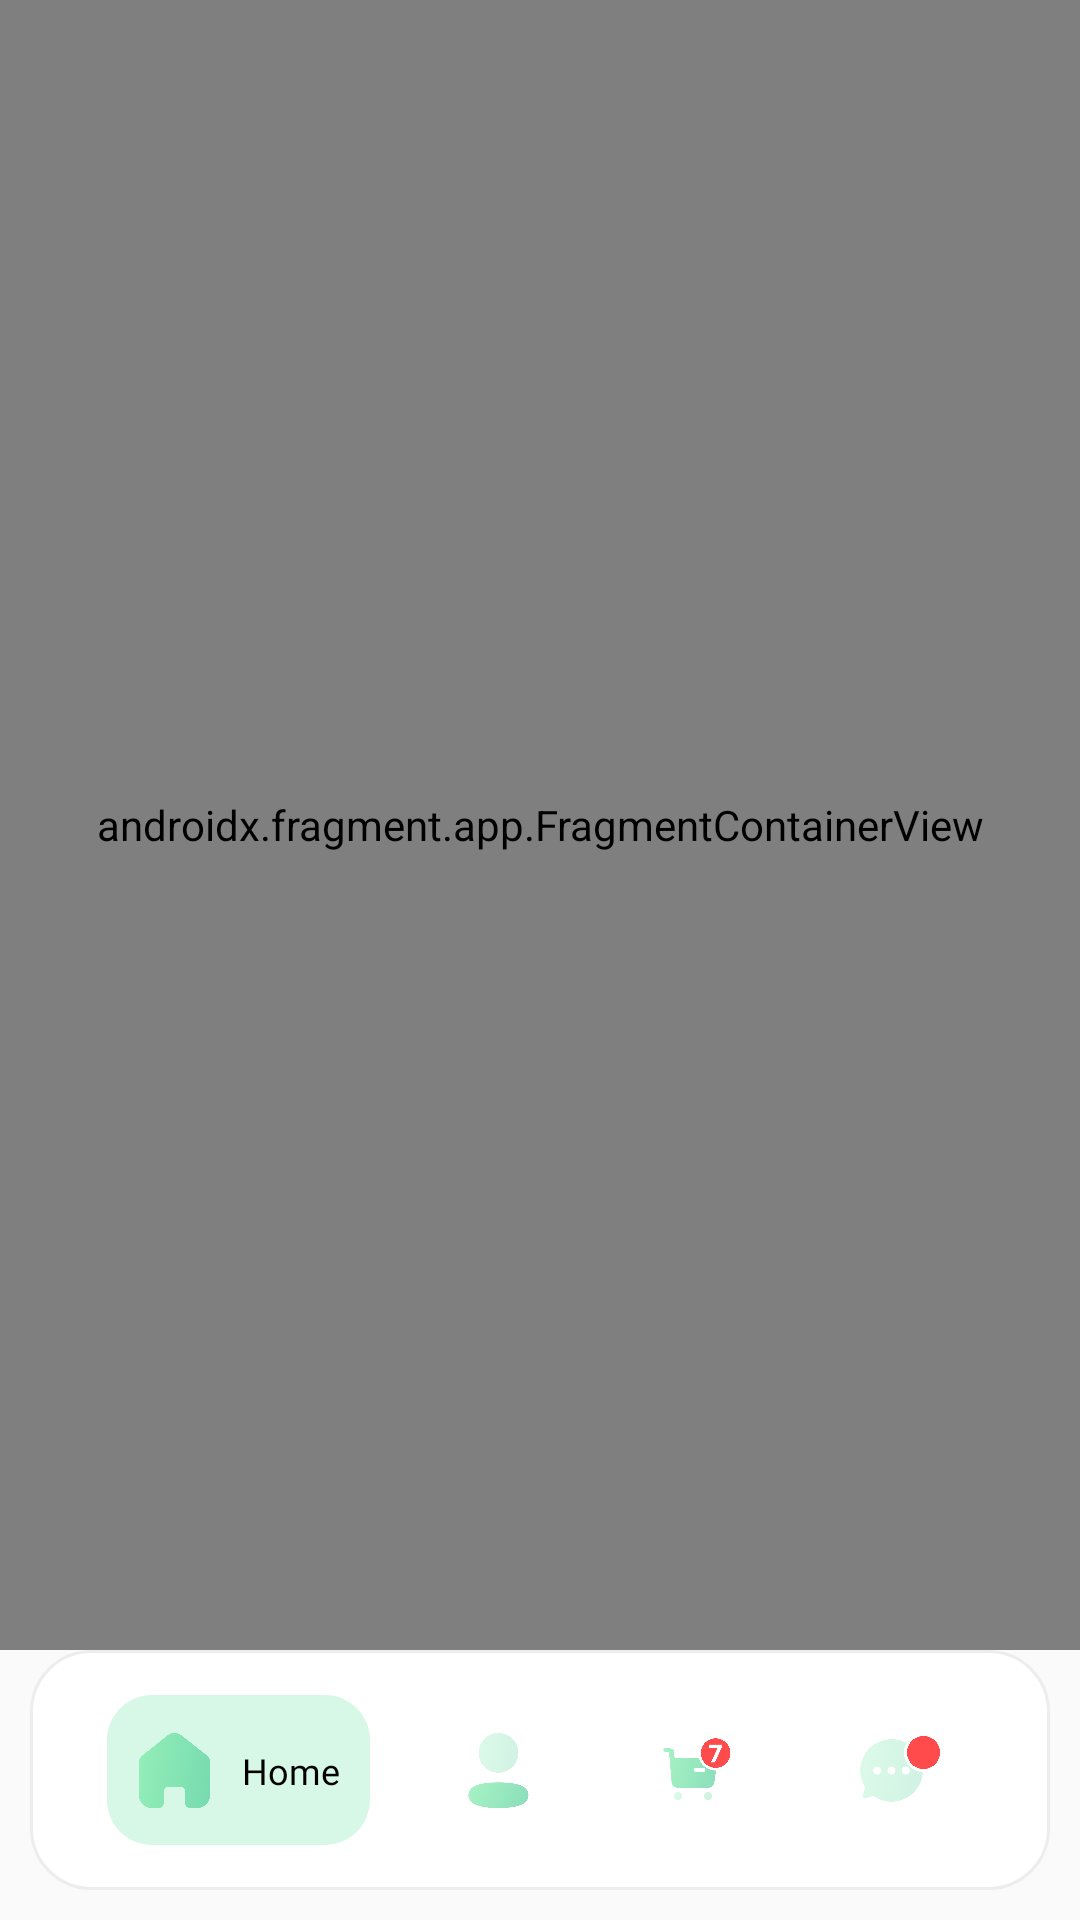

Where to tap for icons on this 1080 × 1920 app screen, as (x,y):
cartnavigation: (696,1769)
profilenavigation: (498,1770)
